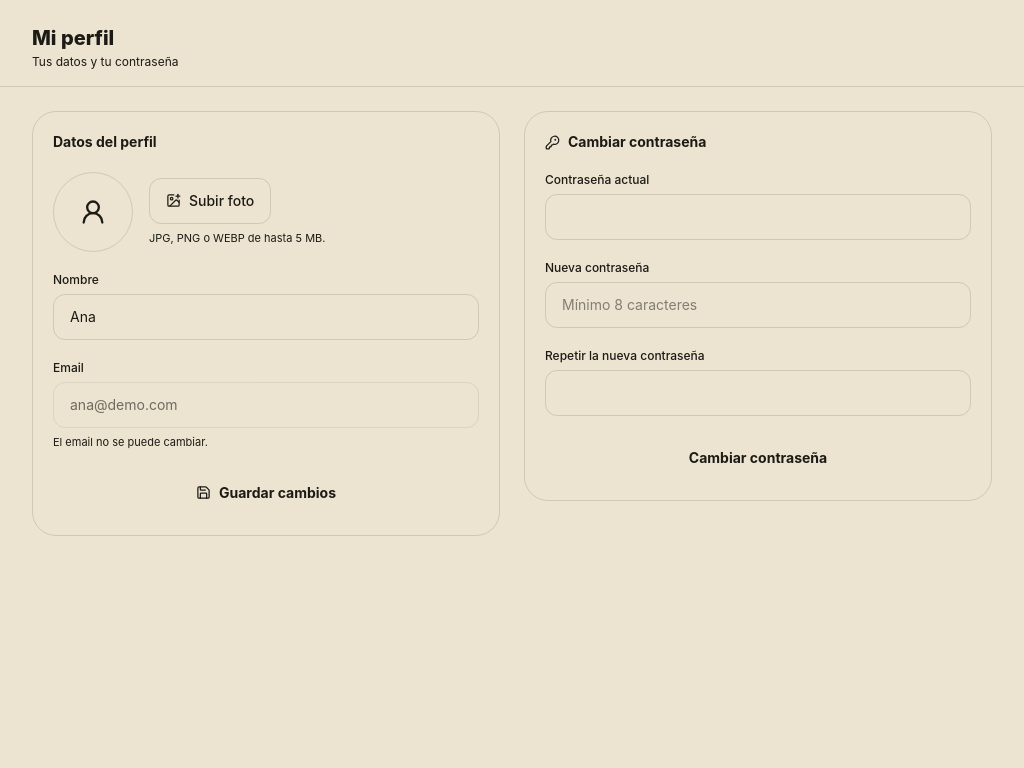
Scenario: OrganizadorPerfilPage — contraseña › exige al menos 8 caracteres en la nueva
The width and height of the screenshot is (1024, 768).
Expected: the field showing "Ana" is shown, [53,294,479,340]
Type "Actual1234" into the password field labelled "Contraseña actual".
click(758, 217); type("Actual1234")  # box [545,194,971,240]
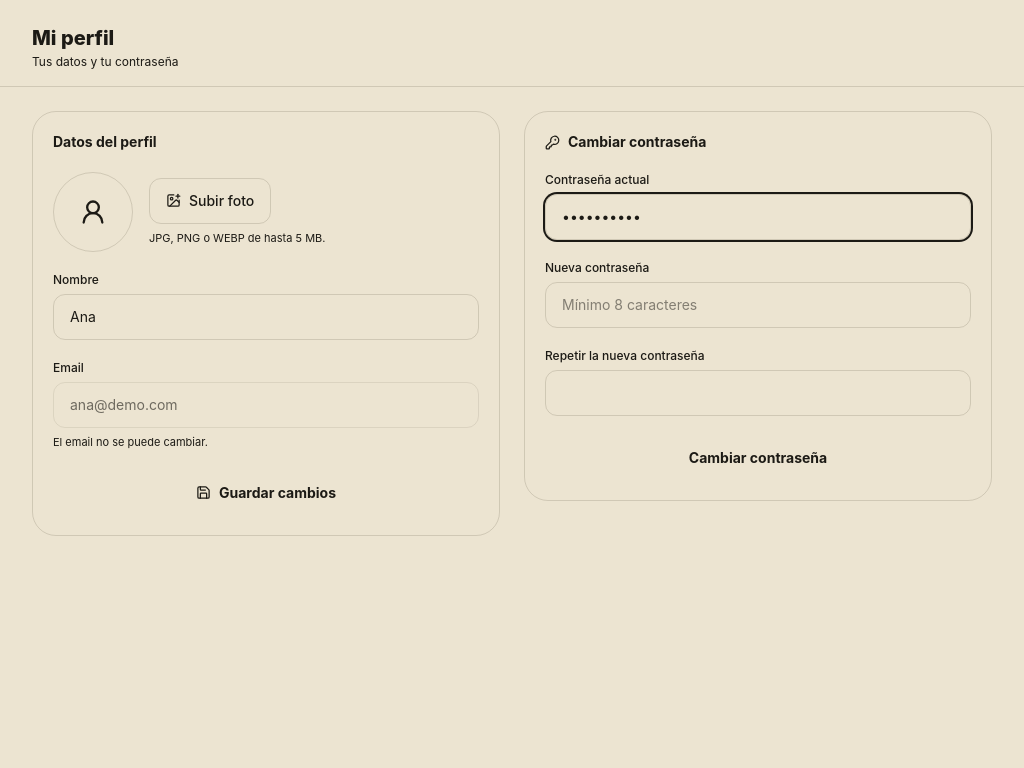
Type "corta" into the password field labelled "Nueva contraseña".
click(758, 305); type("corta")  # box [545,282,971,328]
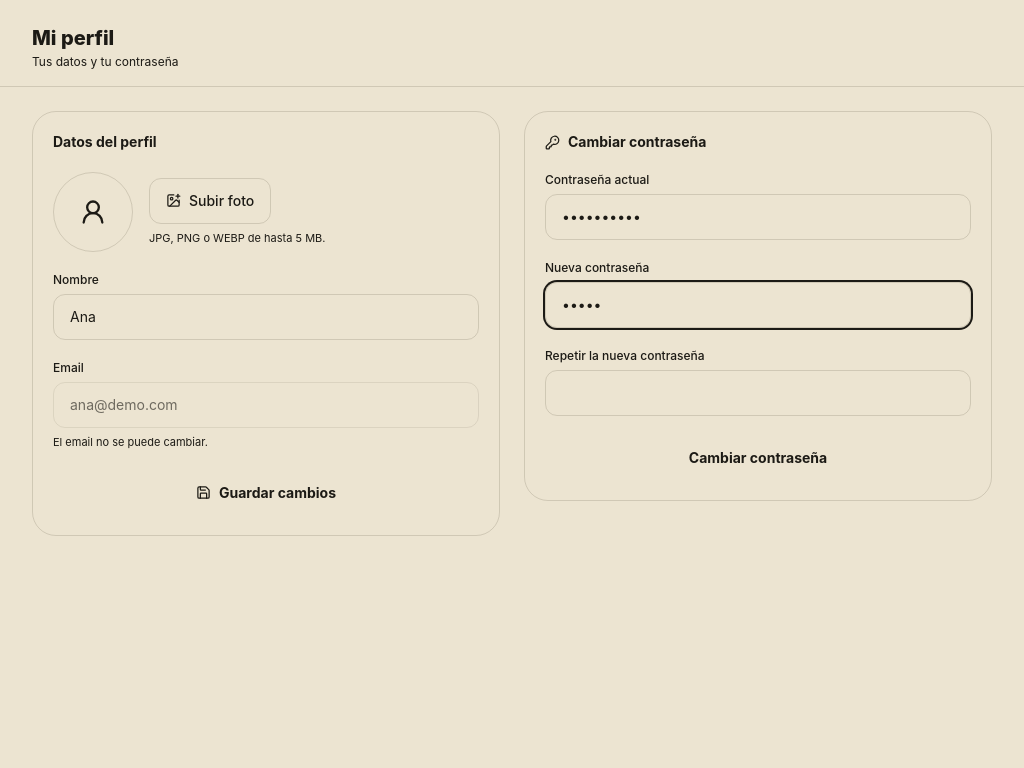
Type "corta" into the password field labelled "Repetir la nueva contraseña".
click(758, 393); type("corta")  # box [545,370,971,416]
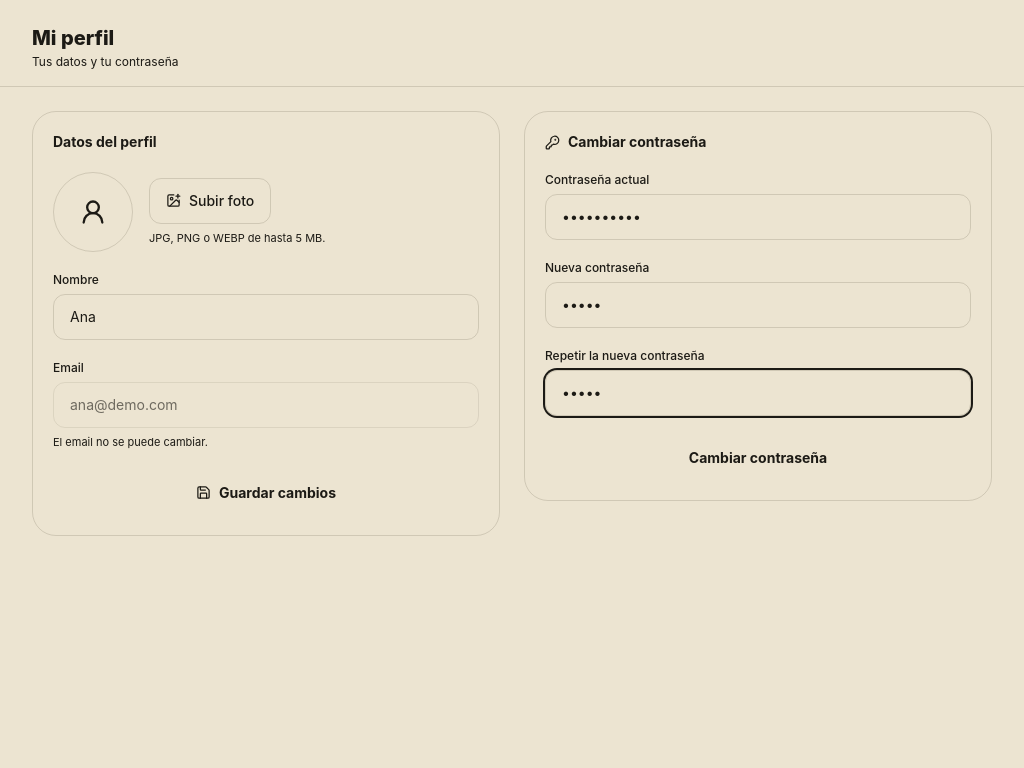
Click the button "Cambiar contraseña".
click(758, 458)  # box [545,436,971,480]
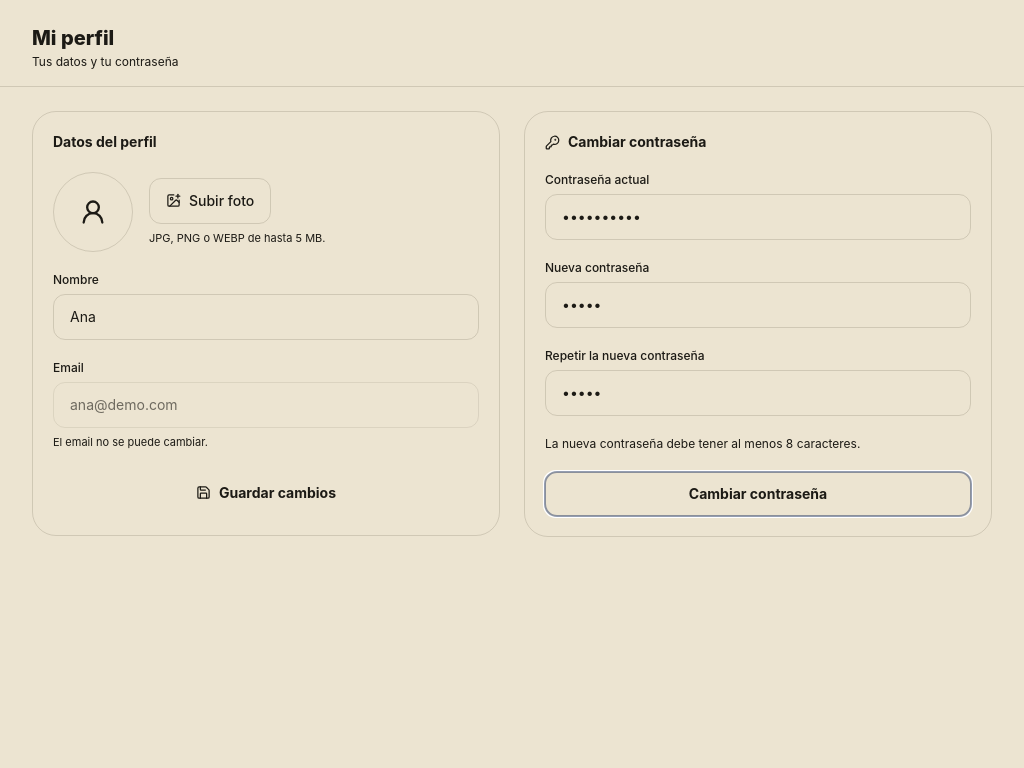
Expected: the text "La nueva contraseña debe tener al menos 8 caracteres." is shown, [545,436,860,451]
